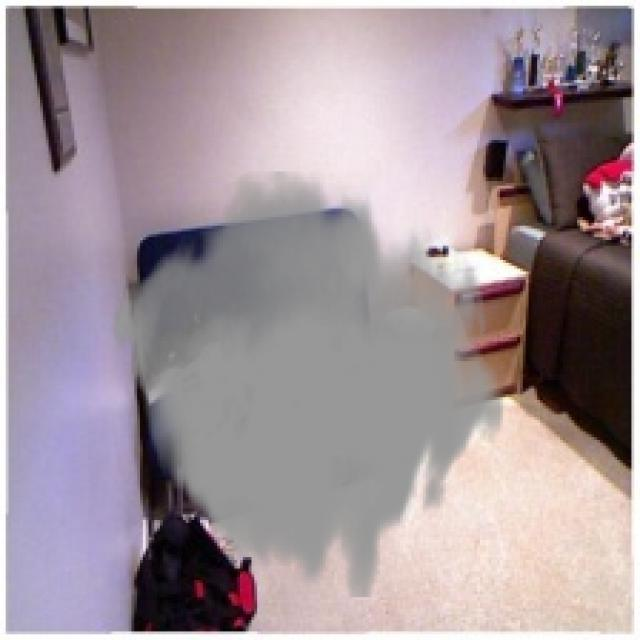Smoke: (111, 172, 506, 597)
